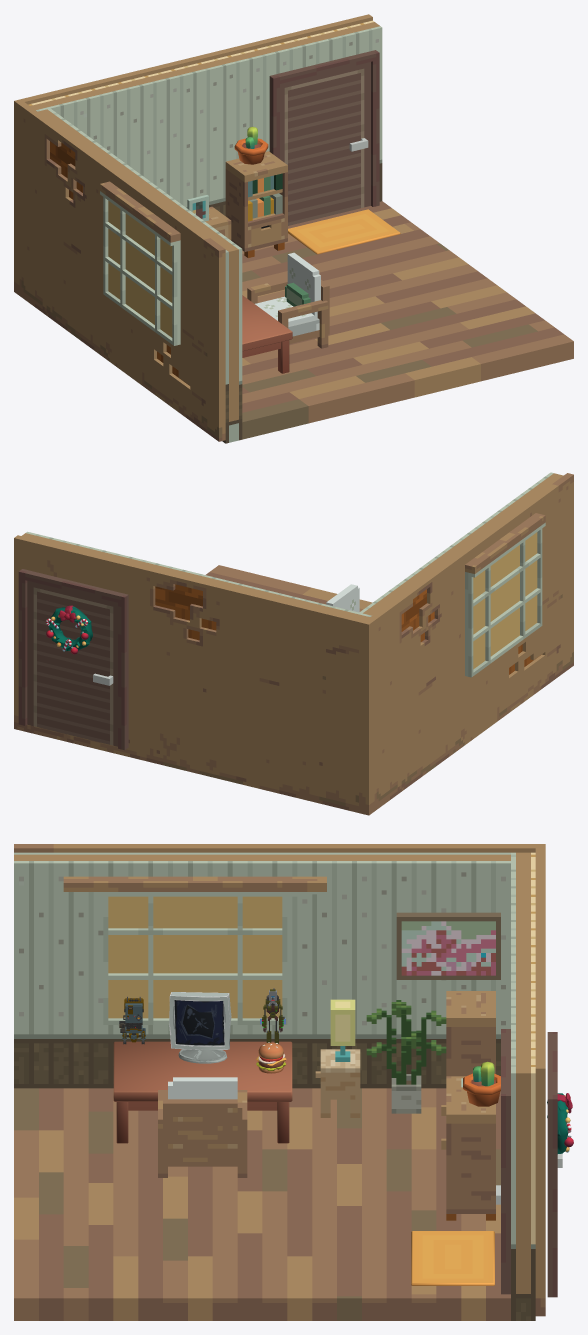
File: Room_v03.glb
3 renders of one model, top to bottom at view 1: azimuth 30°, elevation 25°; view 2: azimuth 150°, elevation 25°; view 3: azimuth 270°, elevation 25°, orthographic. The views are drawn at different scales.
Parts seen in each view (by area): view 1: Ground_slab_1, Wall_Exterrior_2, Wall_Interrior_1, Door 1, Window_Exterior, Wall_Interrior_2, Cupboard_1, Chair, Wall_Exterrior_1, rug_rectangle_stripes_A_Cube.022, table_medium_long_Cube.004, cactus_small_B_Cylinder.002; view 2: Wall_Exterrior_1, Wall_Exterrior_2, Door_Exterior, Window_Exterior, Wall_Interrior_2, Wall_Interrior_1, Ground_slab_1, wreath, Chair; view 3: Ground_slab_1, Wall_Interrior_2, Window_Interrior, Wall_Interrior_1, table_medium_long_Cube.004, Chair, Wall_Picture_Frame, Cupboard_1, Wall_Exterrior_1, Wall_Exterrior_2, rug_rectangle_stripes_A_Cube.022, Monitor_1 (+11 smaller).
Part boxes in pixels (box(x1,y1,x2,y2)): Ground_slab_1: box(242, 201, 573, 439); Wall_Exterrior_2: box(17, 102, 225, 441); Wall_Interrior_1: box(28, 20, 382, 215); Door 1: box(269, 50, 379, 225); Window_Exterior: box(100, 181, 180, 345); Wall_Interrior_2: box(38, 108, 242, 443); Cupboard_1: box(225, 151, 287, 257); Chair: box(247, 252, 329, 348); Wall_Exterrior_1: box(14, 14, 372, 294); rug_rectangle_stripes_A_Cube.022: box(288, 209, 400, 254); table_medium_long_Cube.004: box(242, 295, 292, 373); cactus_small_B_Cylinder.002: box(234, 126, 268, 164); Wall_Exterrior_1: box(14, 535, 372, 815); Wall_Exterrior_2: box(366, 473, 573, 812); Door_Exterior: box(18, 569, 128, 750); Window_Exterior: box(465, 513, 545, 677); Wall_Interrior_2: box(359, 472, 563, 615); Wall_Interrior_1: box(22, 531, 371, 619); Ground_slab_1: box(206, 565, 372, 609); wreath: box(46, 605, 92, 654); Chair: box(326, 584, 362, 612); Ground_slab_1: box(14, 1088, 510, 1320); Wall_Interrior_2: box(14, 852, 510, 1088); Window_Interrior: box(63, 876, 326, 1024); Wall_Interrior_1: box(511, 852, 535, 1320); table_medium_long_Cube.004: box(113, 1041, 292, 1143); Chair: box(158, 1077, 247, 1177); Wall_Picture_Frame: box(396, 912, 500, 979); Cupboard_1: box(446, 1087, 495, 1220); Wall_Exterrior_1: box(535, 844, 545, 1316); Wall_Exterrior_2: box(14, 844, 535, 852); rug_rectangle_stripes_A_Cube.022: box(411, 1231, 494, 1285); Monitor_1: box(169, 992, 231, 1063).
Bounding box in the file's own units: 2.2 × 1.12 × 2.25.
27 materials, 27 textured.
